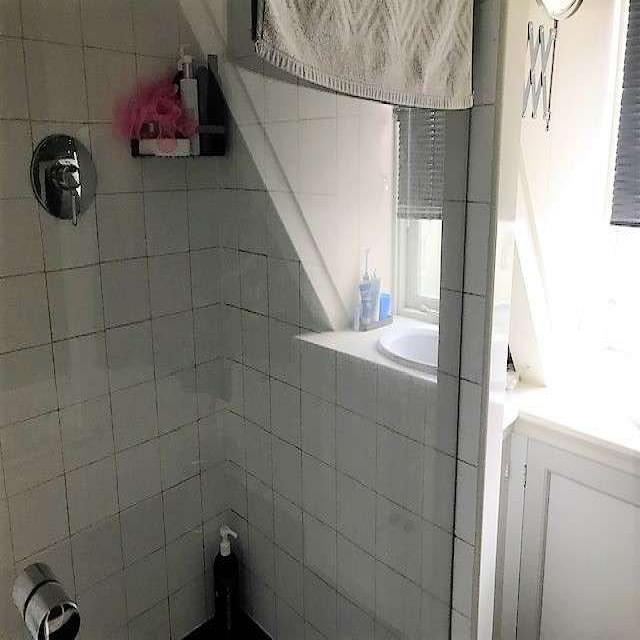douche: (0, 0, 513, 640)
wastafel: (368, 315, 458, 383)
